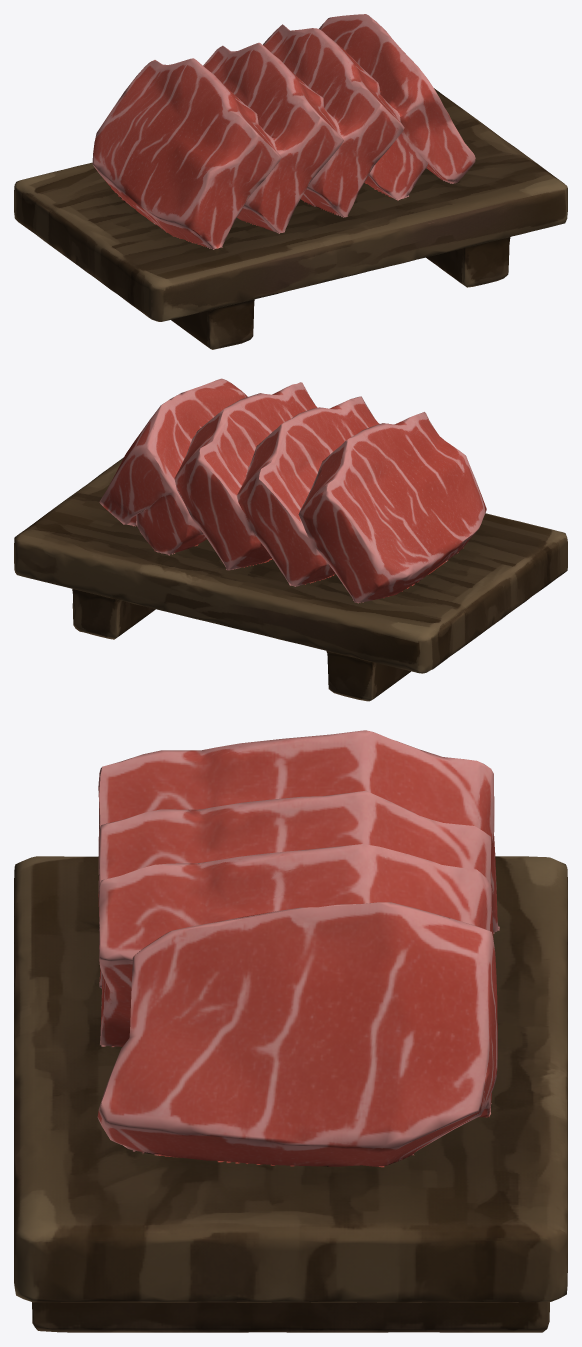
The model's file is toro_aleta.glb.
3 renders of one model, top to bottom at view 1: azimuth 30°, elevation 25°; view 2: azimuth 150°, elevation 25°; view 3: azimuth 270°, elevation 25°, orthographic. The views are drawn at different scales.
Visible parts, largest first — view 1: world; view 2: world; view 3: world.
Part boxes in pixels (x1,y1,x2,y2): world: (14, 14, 567, 349); world: (14, 378, 567, 701); world: (14, 730, 567, 1332).
Bounding box in the file's own units: 1 × 0.4895 × 0.6156.
Materials: 1 (1 with a texture image).
